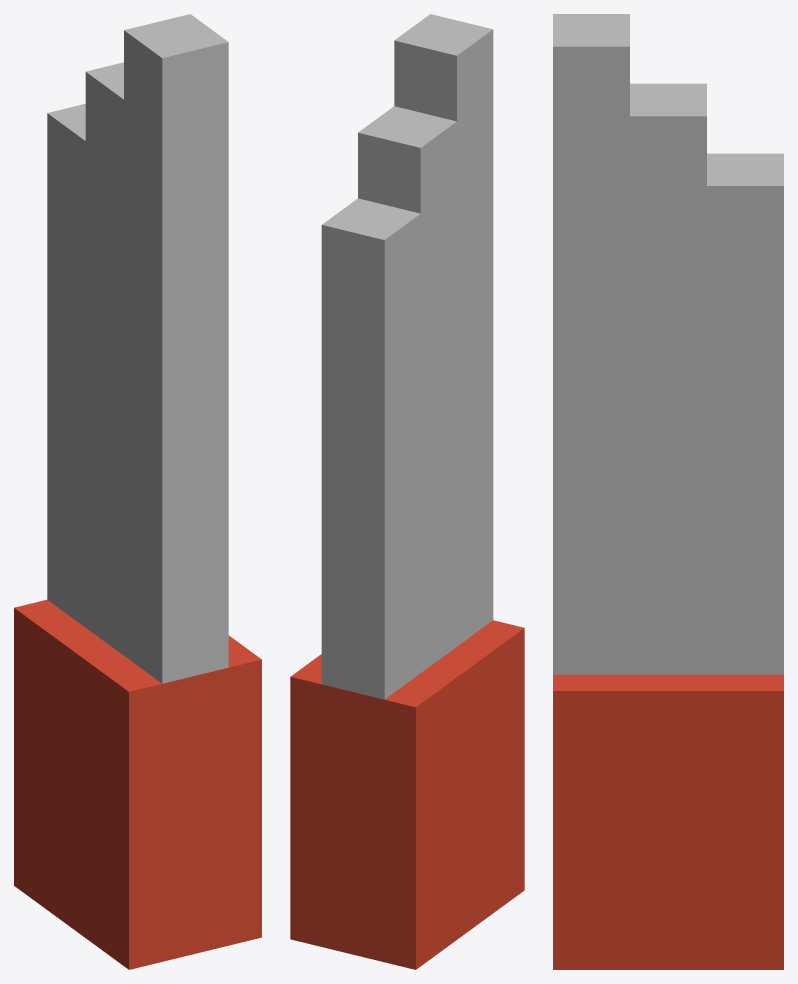
Rendered from knife.fbx.
3 renders of one model, left to right at view 1: azimuth 30°, elevation 25°; view 2: azimuth 150°, elevation 25°; view 3: azimuth 270°, elevation 25°, orthographic. The views are drawn at different scales.
Visible parts, largest first — view 1: cube_1, cube_2, cube, cube_3; view 2: cube_1, cube_2, cube, cube_3; view 3: cube_1, cube_2, cube, cube_3.
Boxes of the visible parts, <box> form: cube_1: <box>47,104,228,683</box>; cube_2: <box>14,599,261,969</box>; cube: <box>124,14,228,197</box>; cube_3: <box>85,62,123,168</box>; cube_1: <box>321,161,493,699</box>; cube_2: <box>290,620,524,969</box>; cube: <box>394,14,493,186</box>; cube_3: <box>358,106,456,213</box>; cube_1: <box>553,153,783,674</box>; cube_2: <box>553,674,783,969</box>; cube: <box>553,14,629,185</box>; cube_3: <box>630,83,706,185</box>.
Size of the model in its own units: 12.5 by 81.25 by 18.75.
Materials: 1 (1 with a texture image).
